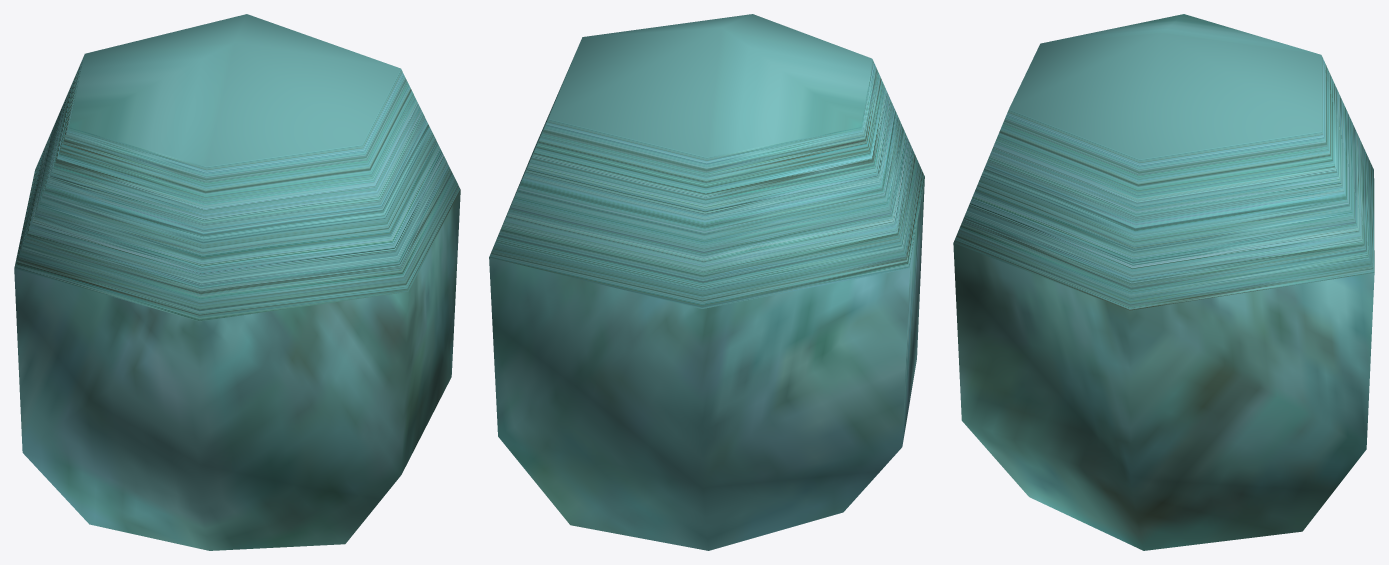
Rendered from EKH_GROTTO_PS_GR_ROCK1102929.fbx.
3 views of the same model, side by side, from view 1: azimuth 30°, elevation 25°; view 2: azimuth 150°, elevation 25°; view 3: azimuth 270°, elevation 25° (orthographic). The views are drawn at different scales.
Parts seen in each view (by area): view 1: EKH_GROTTO_PS_GR_ROCK1102929; view 2: EKH_GROTTO_PS_GR_ROCK1102929; view 3: EKH_GROTTO_PS_GR_ROCK1102929.
Part boxes in pixels (x1,y1,x2,y2): EKH_GROTTO_PS_GR_ROCK1102929: [14, 14, 460, 550]; EKH_GROTTO_PS_GR_ROCK1102929: [489, 14, 924, 550]; EKH_GROTTO_PS_GR_ROCK1102929: [953, 14, 1374, 550].
Size of the model in its own units: 13768 by 15100 by 12538.
1 material, 1 textured.
